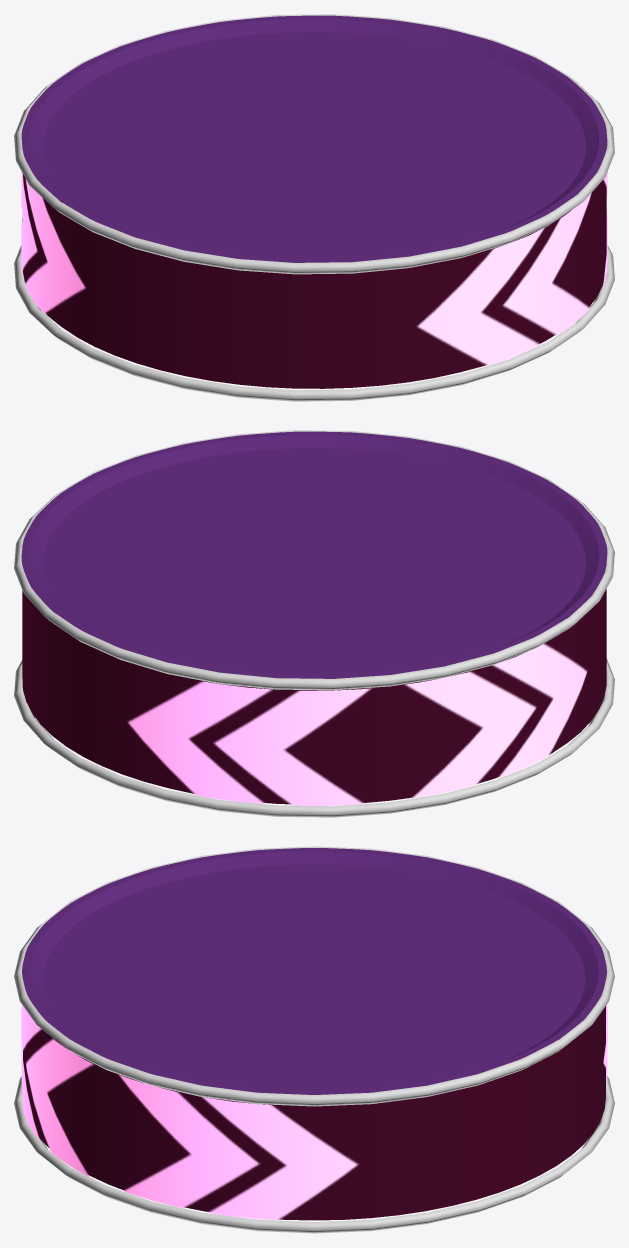
Rendered from dispenser_1.glb.
3 renders of one model, top to bottom at view 1: azimuth 30°, elevation 25°; view 2: azimuth 150°, elevation 25°; view 3: azimuth 270°, elevation 25°, orthographic.
Visible parts, largest first — view 1: dispenser, Cylinder.135, Cylinder.138; view 2: dispenser, Cylinder.135, Cylinder.138; view 3: dispenser, Cylinder.138, Cylinder.135.
Part boxes in pixels (bbox=[...]): dispenser: bbox=[14, 14, 614, 401]; Cylinder.135: bbox=[417, 193, 591, 365]; Cylinder.138: bbox=[21, 171, 607, 313]; dispenser: bbox=[14, 430, 614, 817]; Cylinder.135: bbox=[127, 681, 371, 805]; Cylinder.138: bbox=[404, 643, 587, 798]; dispenser: bbox=[14, 846, 614, 1233]; Cylinder.138: bbox=[119, 1075, 358, 1220]; Cylinder.135: bbox=[21, 1004, 607, 1176].
Size of what is drawn, in the model's own units: 2.17 by 0.5516 by 2.17.
Materials: 4 (2 with a texture image).
